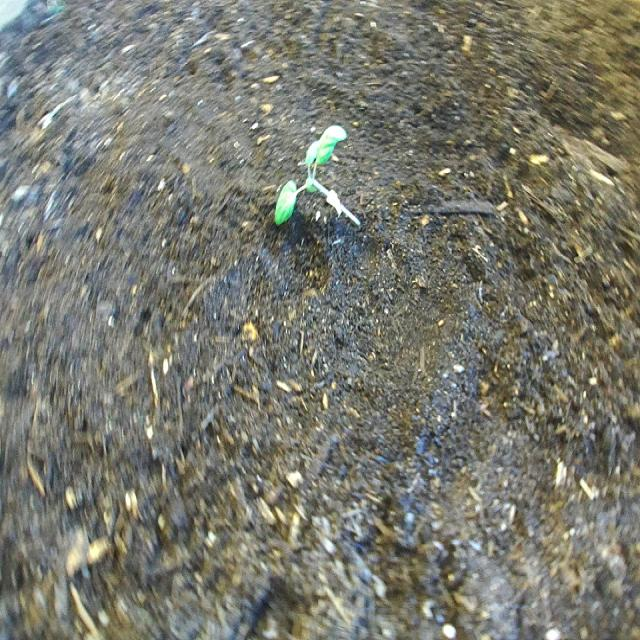Unhealthy: (272, 120, 366, 240)
